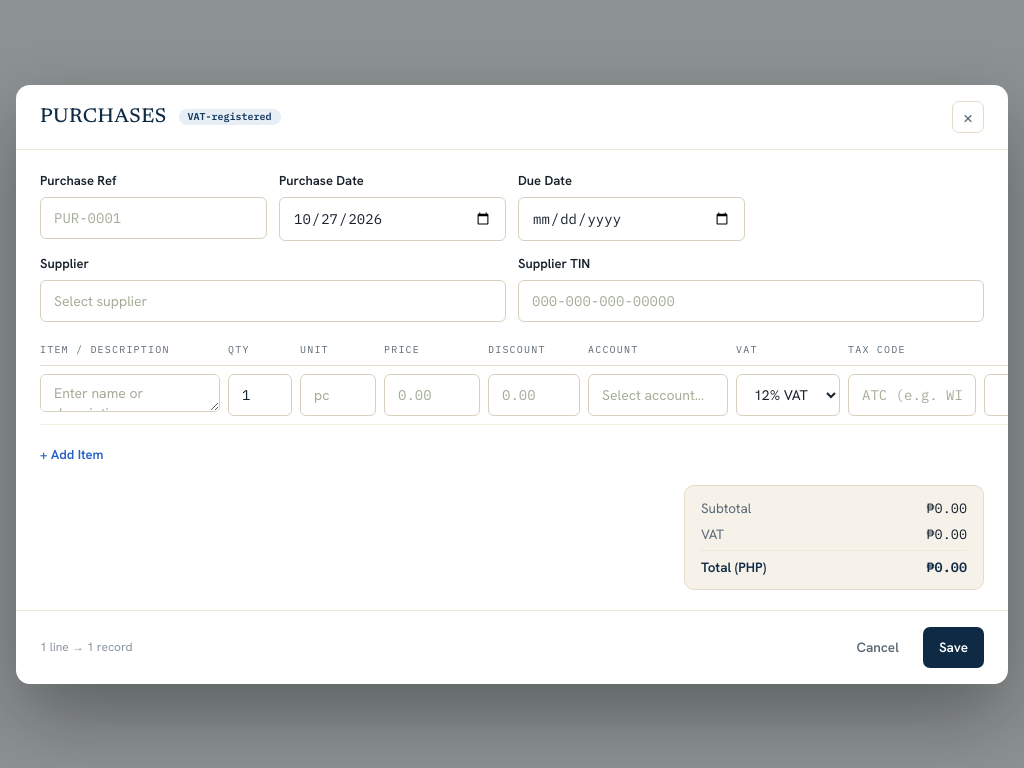
Test: TransactionEntryModal — invoice/bill line-item entry › wires the Account picker to the Chart of Accounts with type-to-search
This screenshot has width=1024, height=768.
Step 1. Focus the field with placeholder "Select account…" → [658, 394], box left=588, top=374, right=728, bottom=416
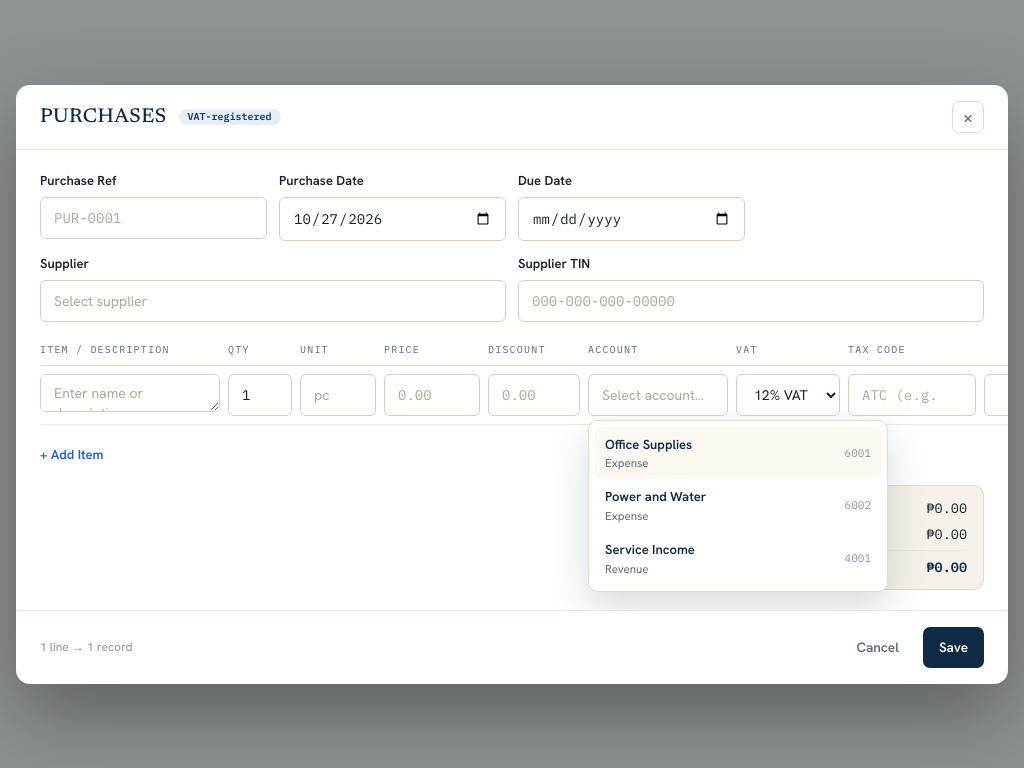
Expected: the text "Office Supplies" is shown, left=605, top=434, right=692, bottom=454
Expected: the text "Service Income" is shown, left=605, top=540, right=695, bottom=560
…typing narrows the list…
Step 2. Type "power" into the field with placeholder "Select account…" → [658, 394], box left=588, top=374, right=728, bottom=416
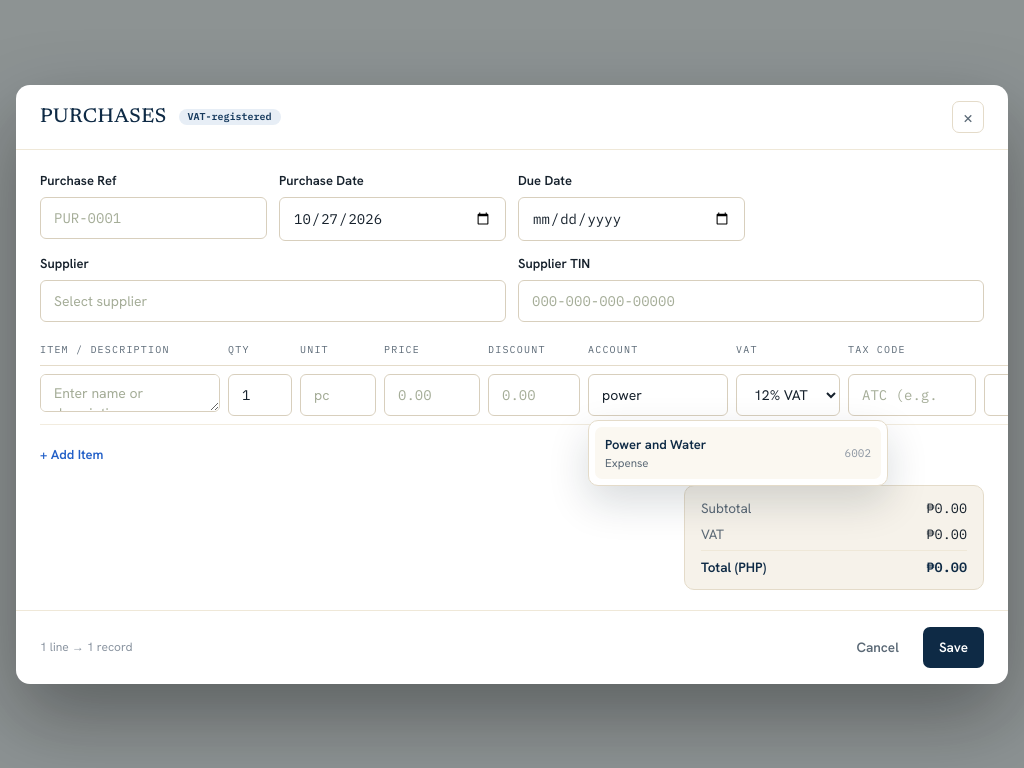
Expected: the text "Power and Water" is shown
Expected: the button "Office Supplies" is gone
…and picking one fills the field with the account name.
Step 3. Click the text "Power and Water" → [656, 444], box left=605, top=434, right=706, bottom=454
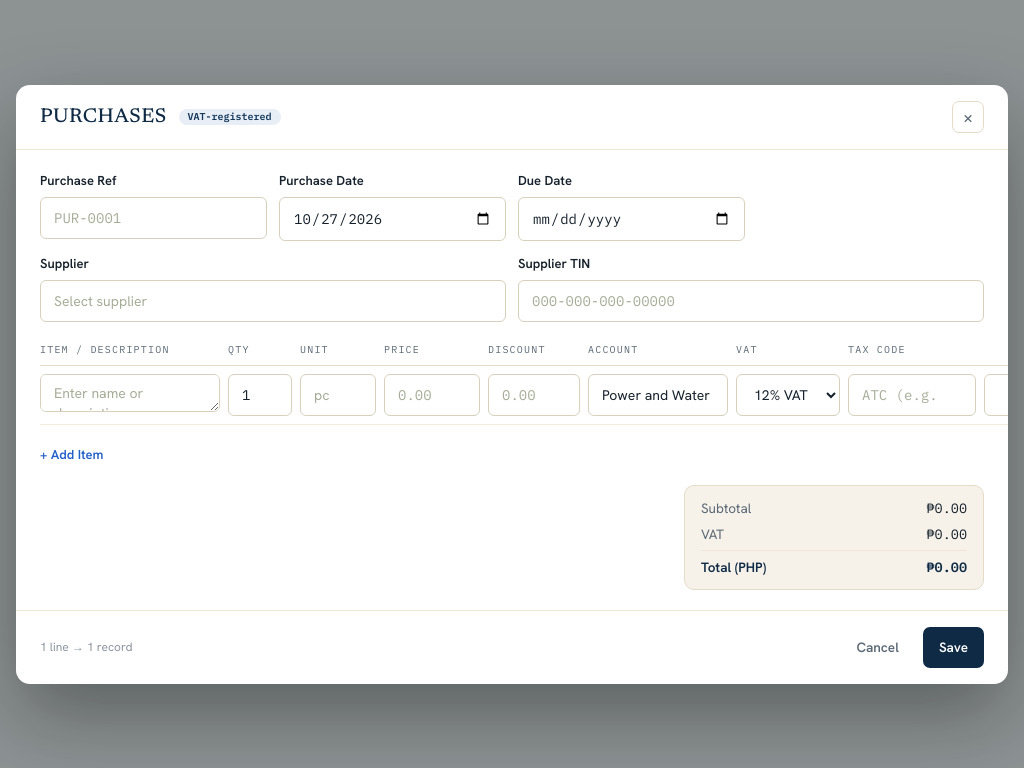
Expected: the 2nd field with placeholder "Select account…" holds "Power and Water", left=588, top=374, right=728, bottom=416
